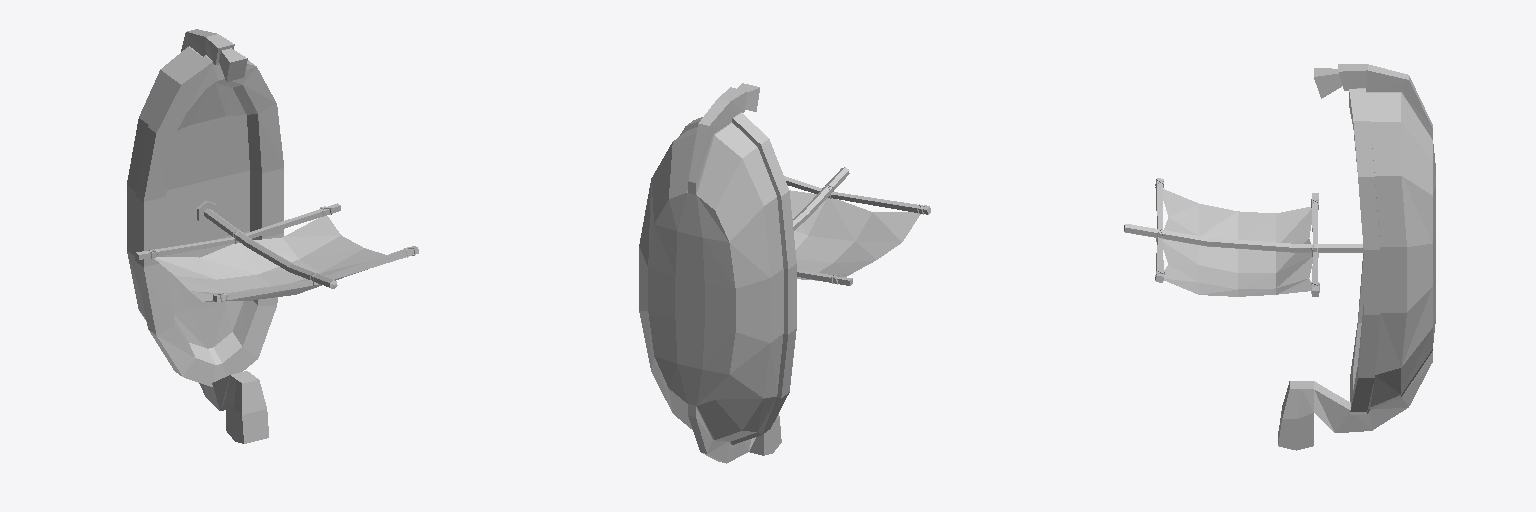
File: chair.obj
3 renders of one model, left to right at view 1: azimuth 30°, elevation 25°; view 2: azimuth 150°, elevation 25°; view 3: azimuth 270°, elevation 25°, orthographic.
Parts seen in each view (by area): view 1: ship; view 2: ship; view 3: ship.
Boxes of the visible parts, <box> form: ship: <box>127,29,418,443</box>; ship: <box>639,83,930,463</box>; ship: <box>1124,64,1435,450</box>.
Bounding box in the file's own units: 1182 × 2097 × 1576.